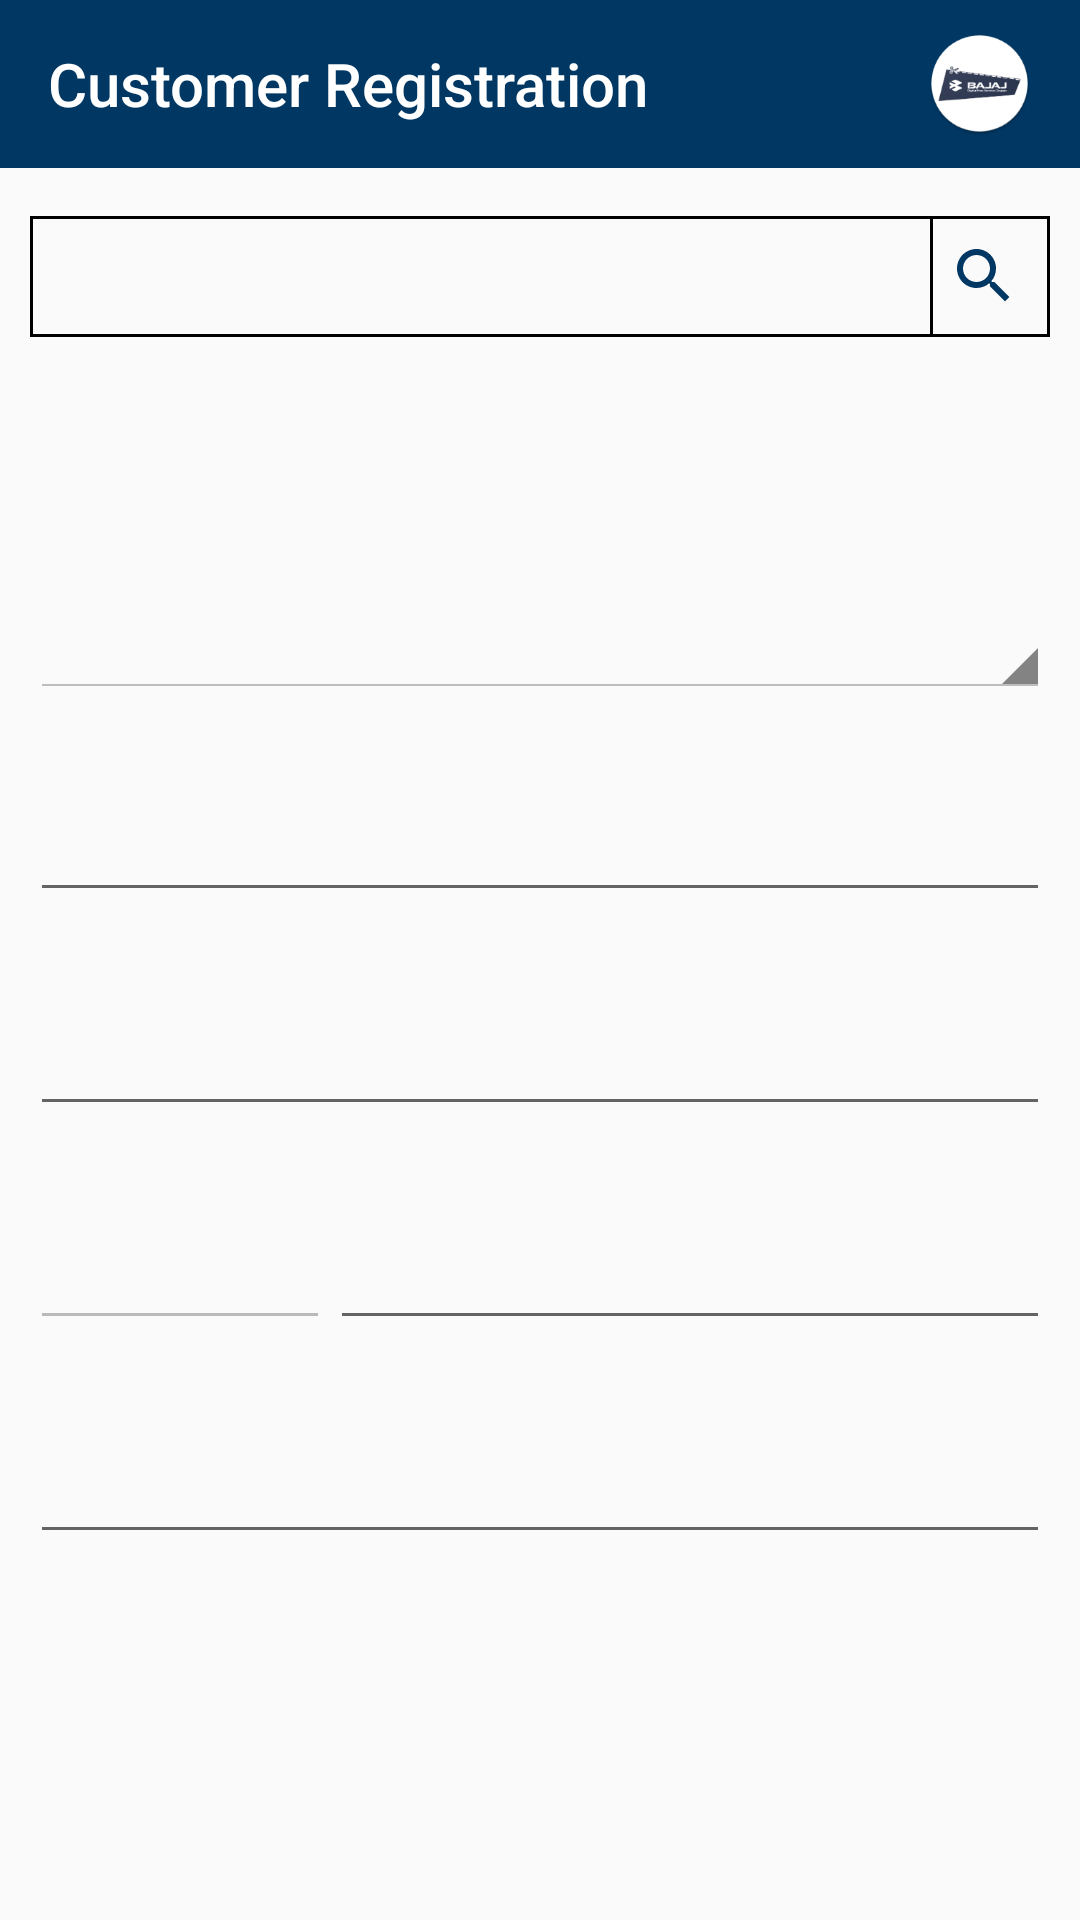

Where to tap for icons on this 1080 x 1920 app screen, as point (x, y):
search: point (983, 275)
